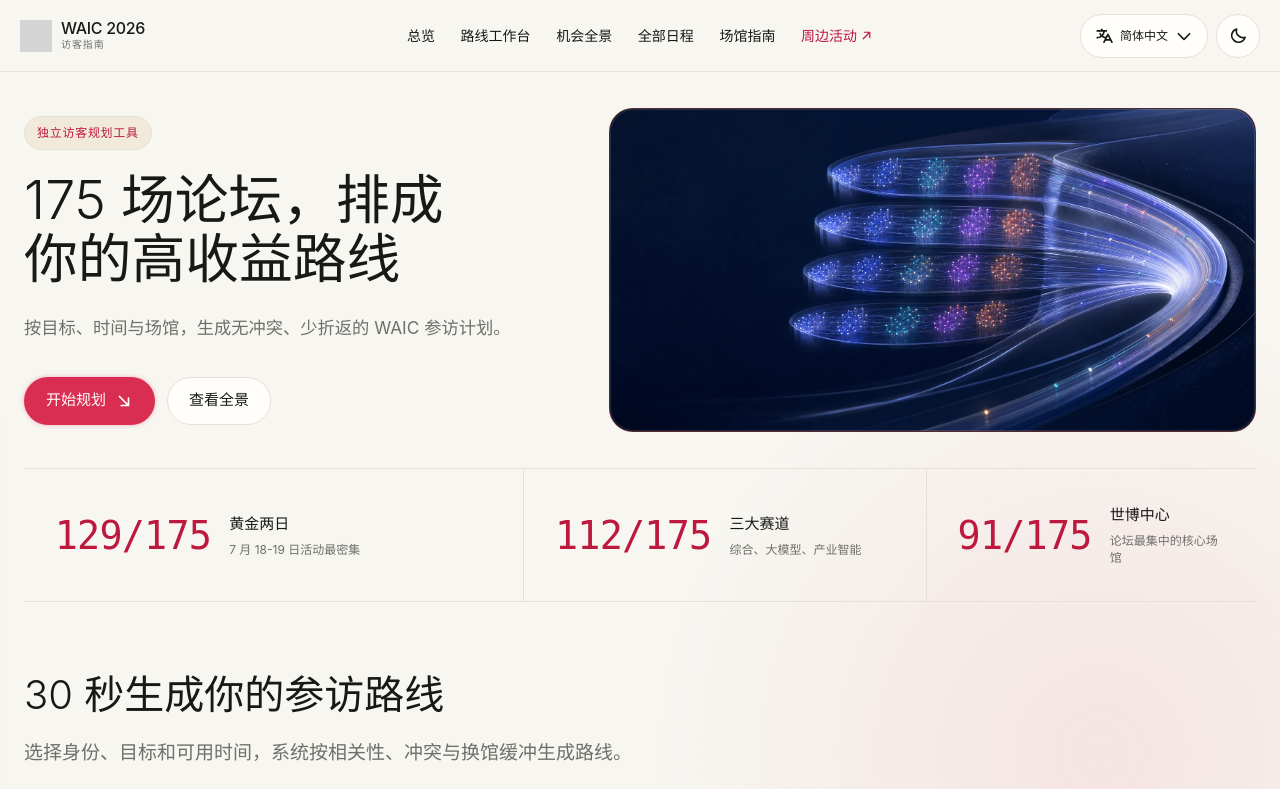
it: application shell › localizes the planner and venue guide in Japanese without English UI fallback
Step 1. Click the button with aria-label "选择语言" → {"x": 1144, "y": 36}, box top-left (1080, 14), bottom-right (1208, 58)
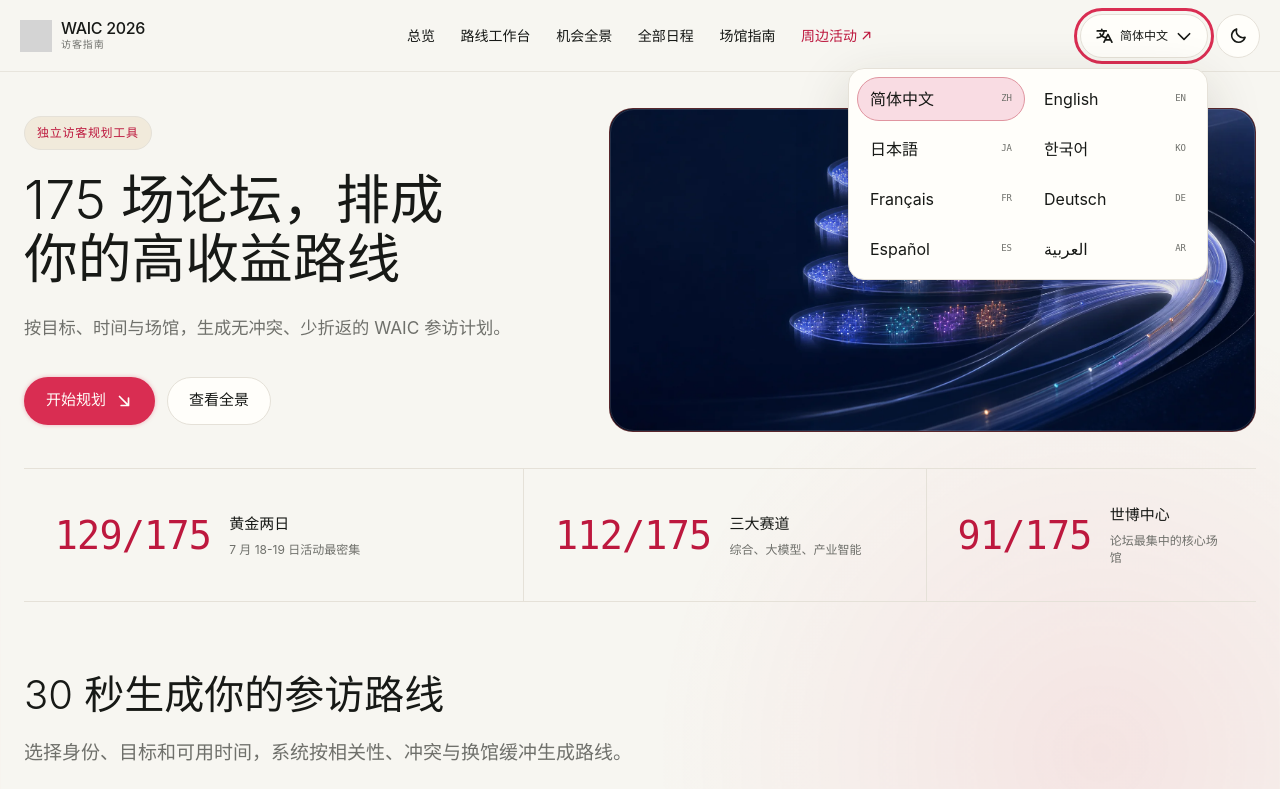
Step 2. Click the menu item "日本語 JA" → {"x": 941, "y": 148}, box top-left (857, 126), bottom-right (1025, 170)
(page scrolled)
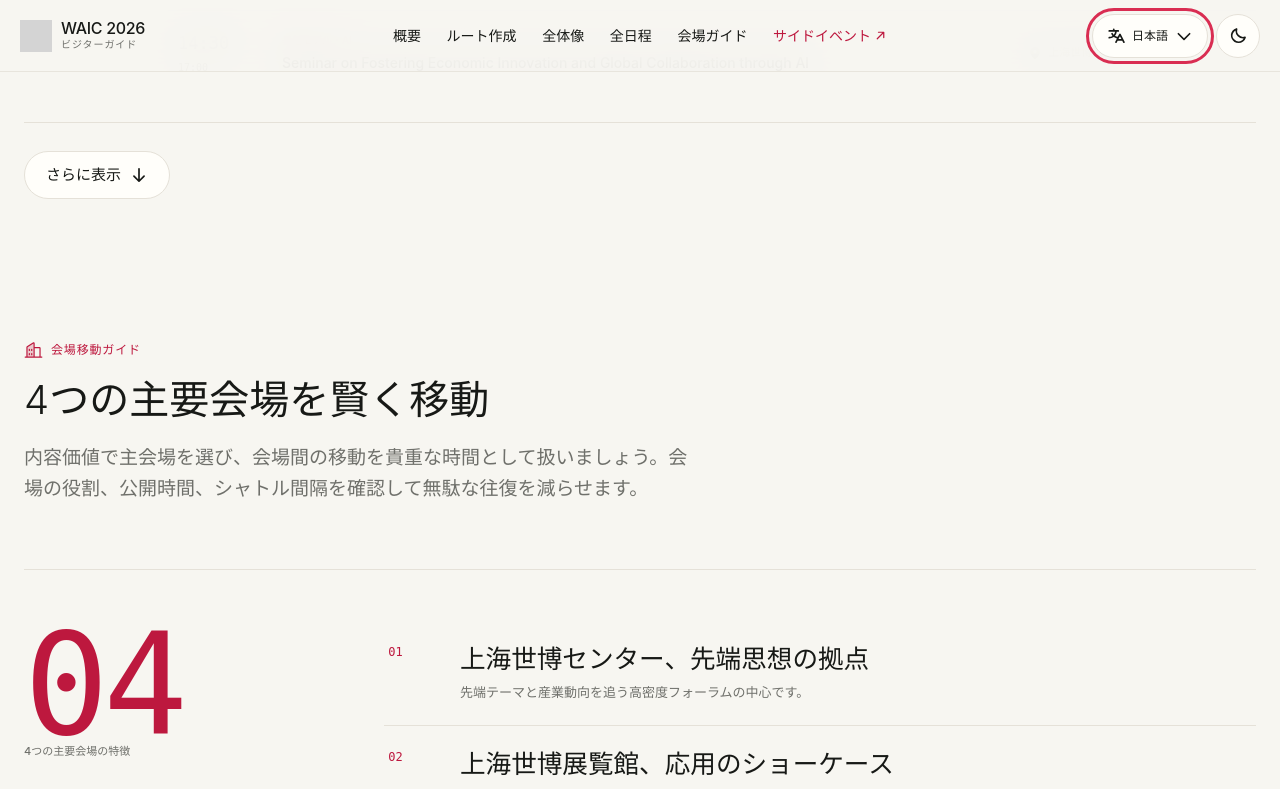
Check: the heading "4つの主要会場を賢く移動" is shown, box top-left (24, 375), bottom-right (489, 424)
